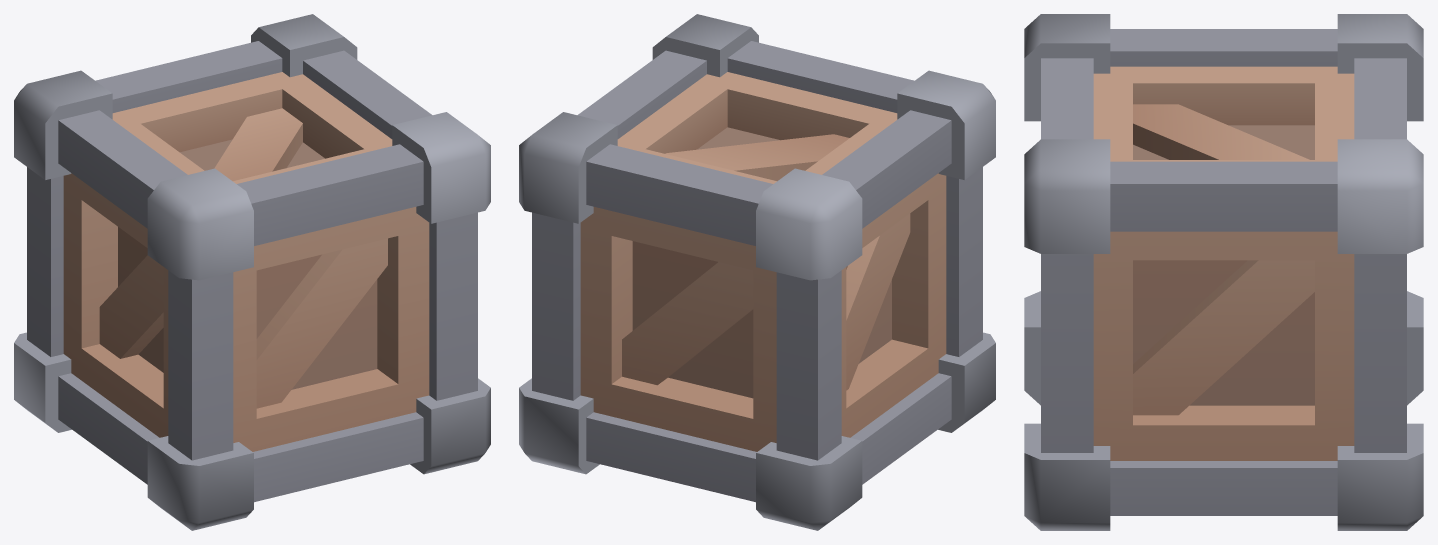
File: airdrop.glb
3 views of the same model, side by side, from view 1: azimuth 30°, elevation 25°; view 2: azimuth 150°, elevation 25°; view 3: azimuth 270°, elevation 25° (orthographic). The views are drawn at different scales.
Visible parts, largest first — view 1: airdrop; view 2: airdrop; view 3: airdrop.
Part boxes in pixels (x1,y1,x2,y2): airdrop: [14, 14, 490, 530]; airdrop: [519, 14, 995, 530]; airdrop: [1024, 14, 1423, 530].
Size of the model in its own units: 44 by 44 by 44.
